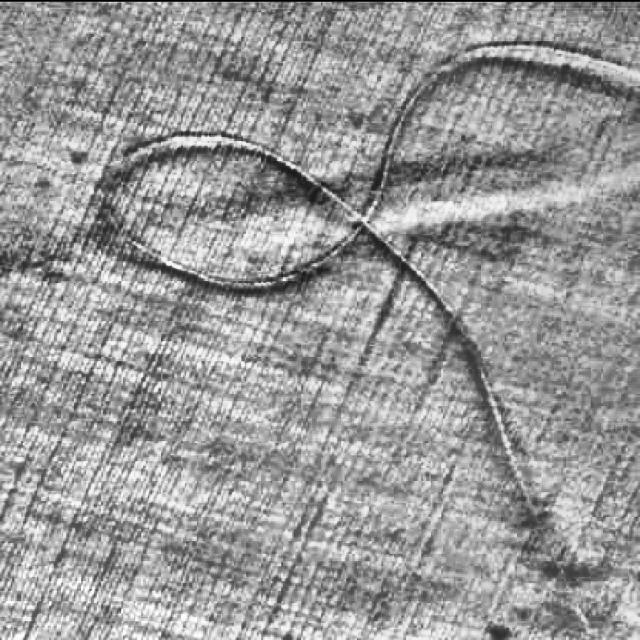objects: (362, 226, 600, 637), (360, 30, 640, 226), (85, 116, 360, 307)
